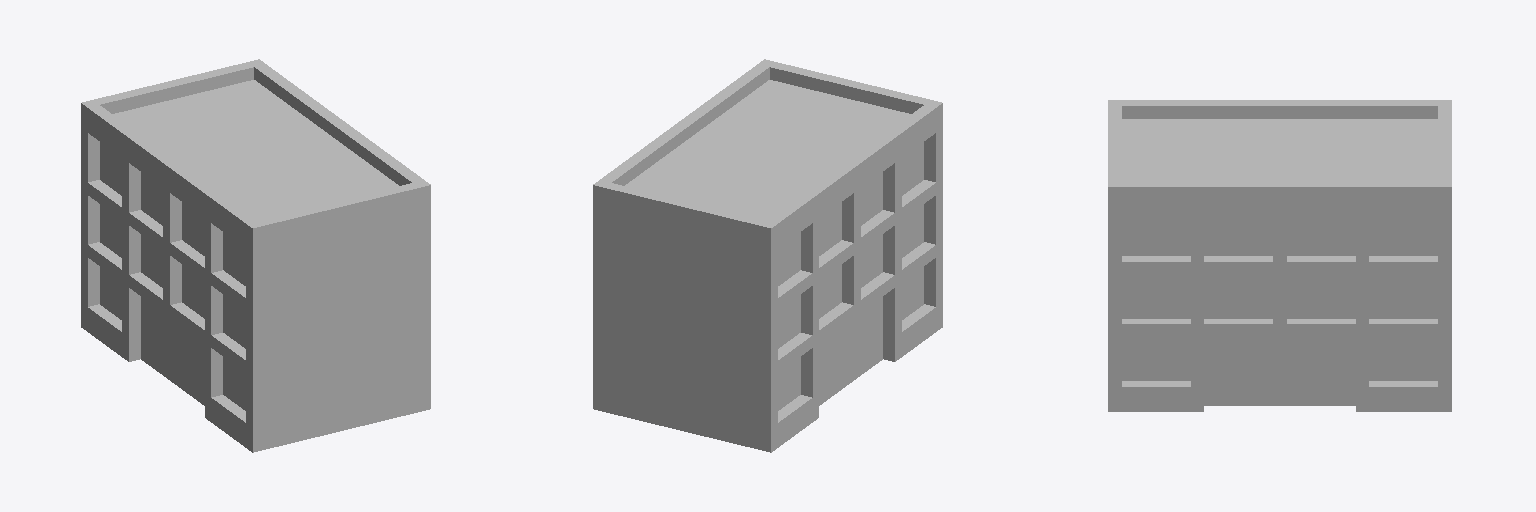
Rendered from littlebuild.obj.
The picture shows the model from 3 angles: view 1: azimuth 30°, elevation 25°; view 2: azimuth 150°, elevation 25°; view 3: azimuth 270°, elevation 25°; orthographic projection.
Bounding box in the file's own units: 15 × 18 × 25.